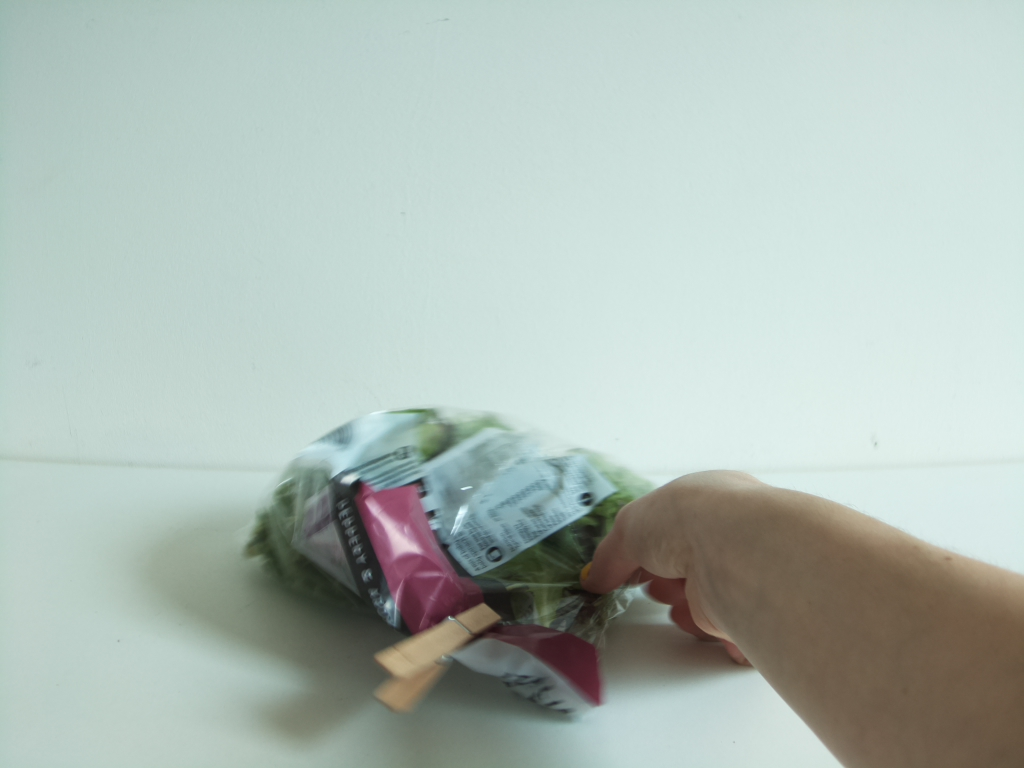salad: (247, 405, 756, 712)
